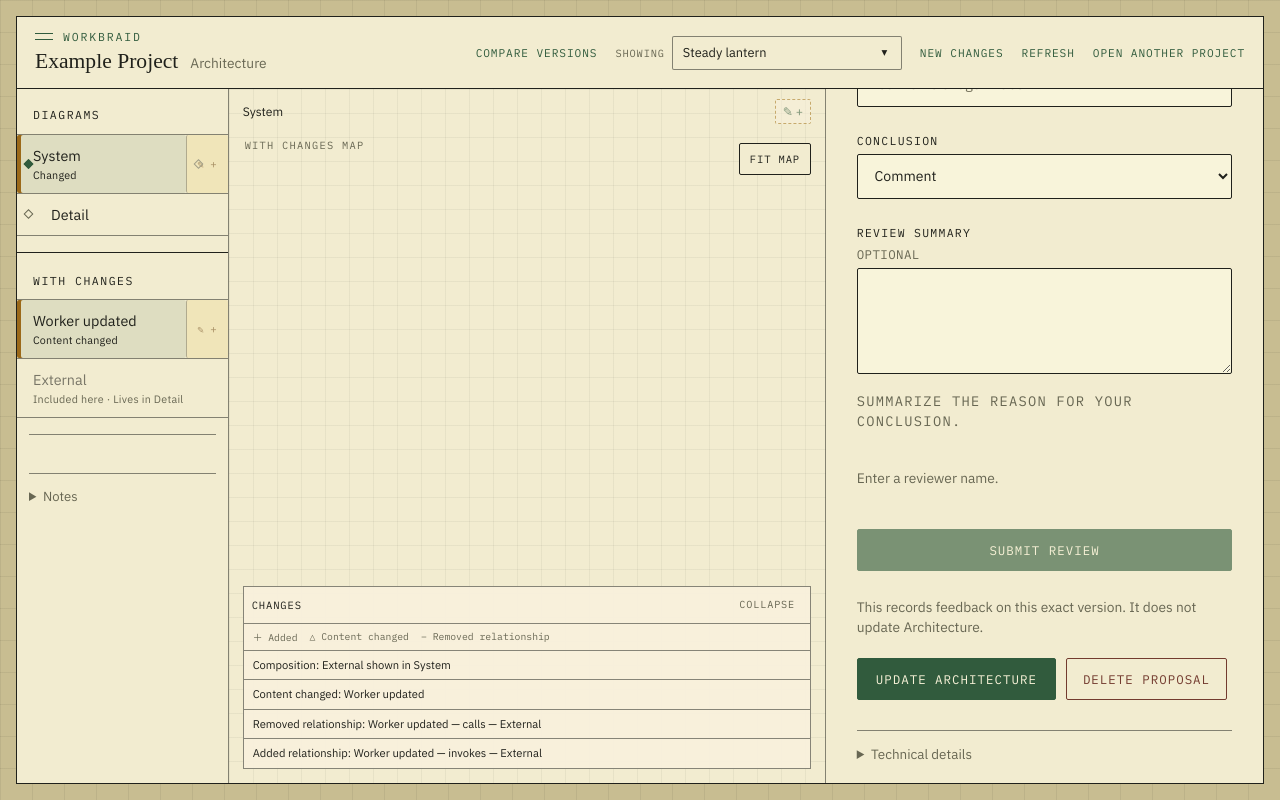
Scenario: candidate review regressions › does not select Accepted for update_failed after Update
(page scrolled)
Click the button "Update architecture" at (956, 679), box [857,658,1056,700]
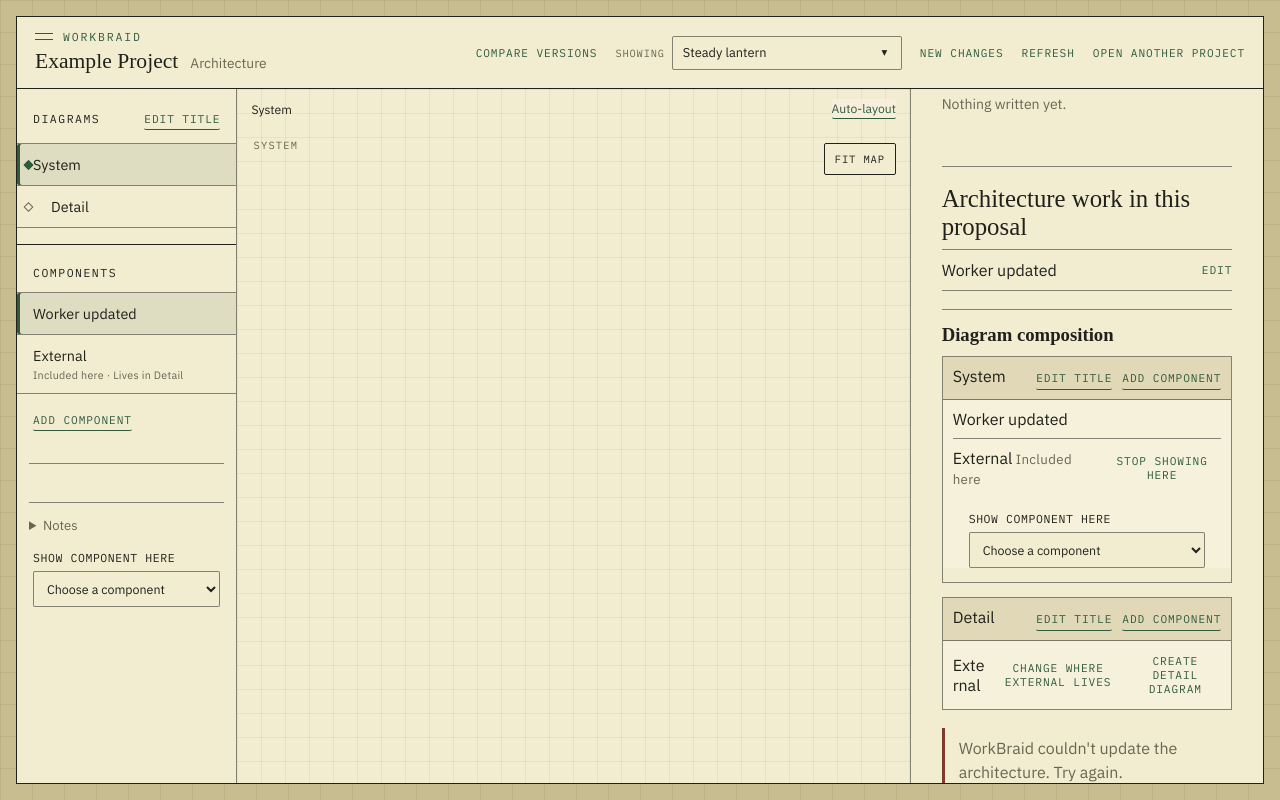
Check: the button named "Showing Steady lantern" is enabled, box [672,36,902,70]
Check: the text "update Architecture" is gone
Check: the message "WorkBraid couldn't update the architecture. Try again." is shown, box [942,728,1232,783]
